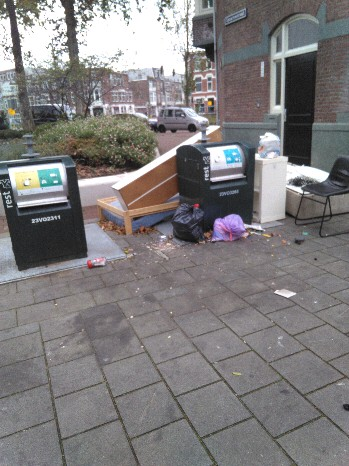Container: (6, 165, 89, 263), (174, 143, 253, 218)
Rest: (258, 142, 327, 234), (304, 147, 349, 242), (107, 162, 155, 233), (147, 120, 185, 202), (166, 211, 213, 247), (221, 216, 233, 265)
